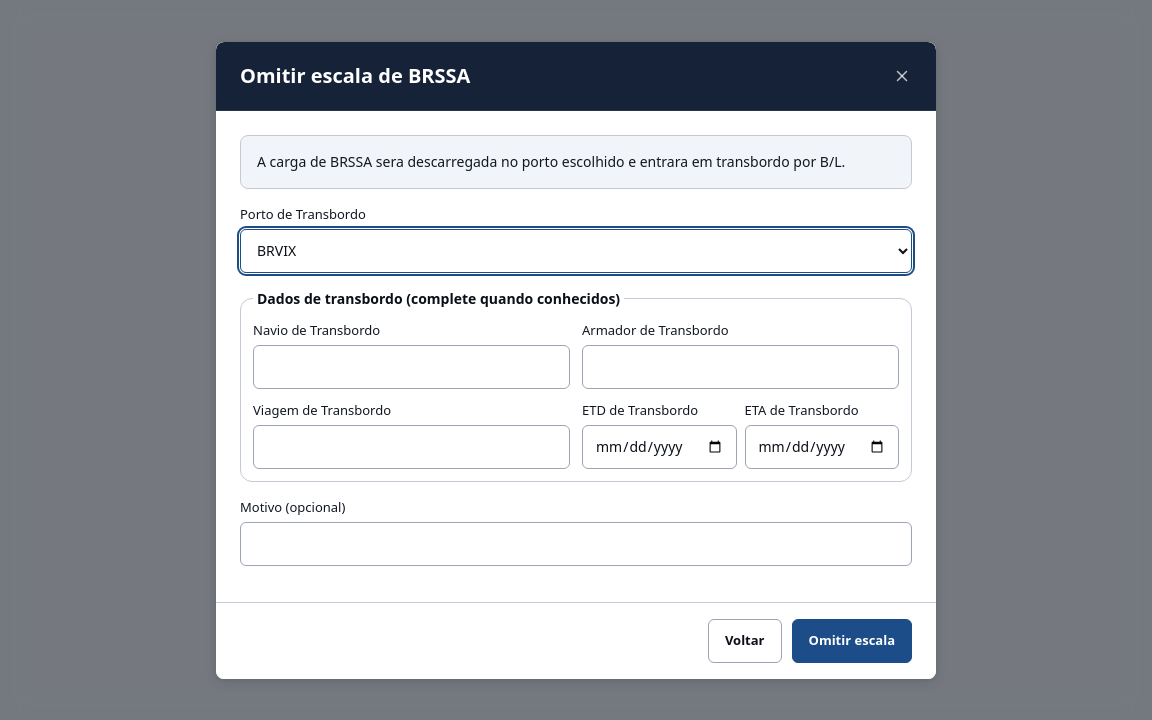
Test case: OmitEscalaModal - recusa do banco › Voltar e omitir de novo não mostra a recusa anterior na confirmação
The width and height of the screenshot is (1152, 720).
Click the button "Omitir escala" at (852, 640), box x1=792 y1=618 x2=912 y2=662
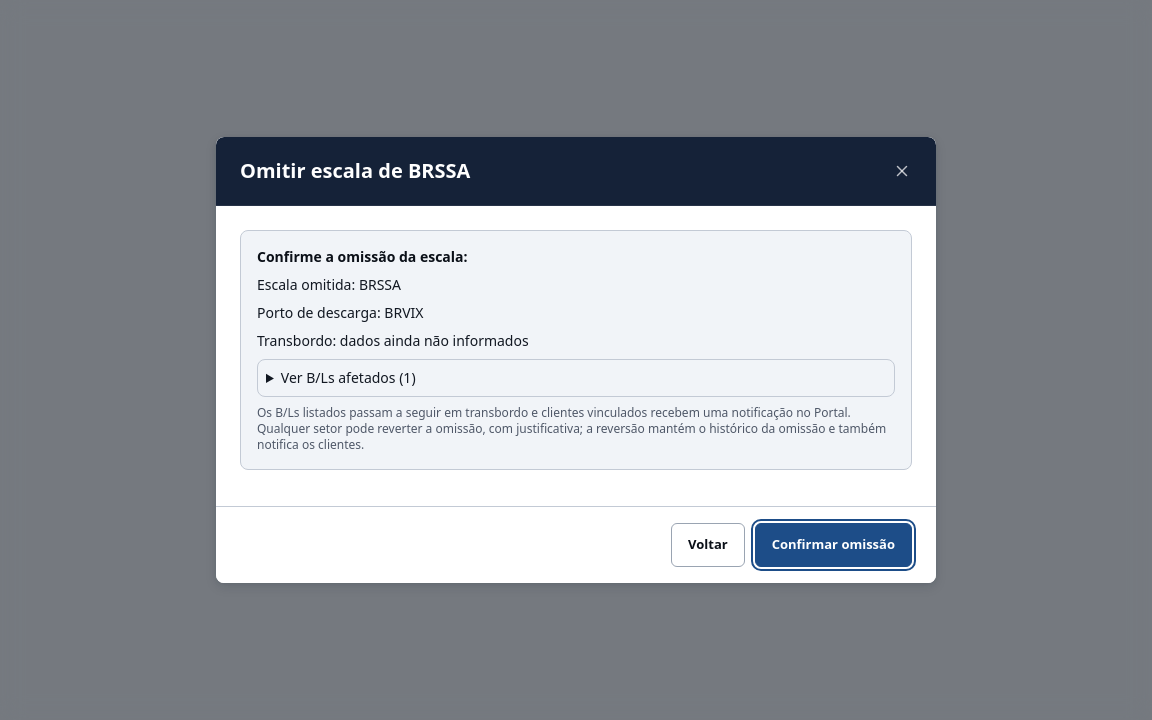
Click the button "Confirmar omissão" at (833, 545), box x1=755 y1=523 x2=912 y2=567
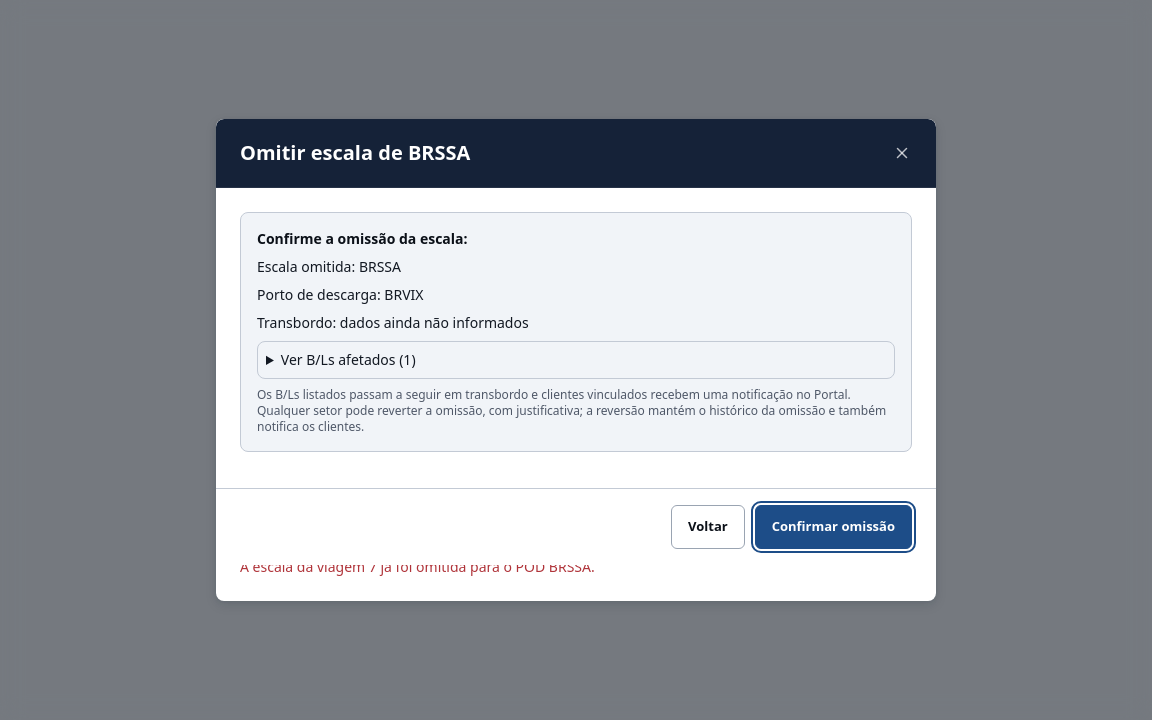
Click the button "Voltar" at (708, 527), box x1=671 y1=505 x2=745 y2=549
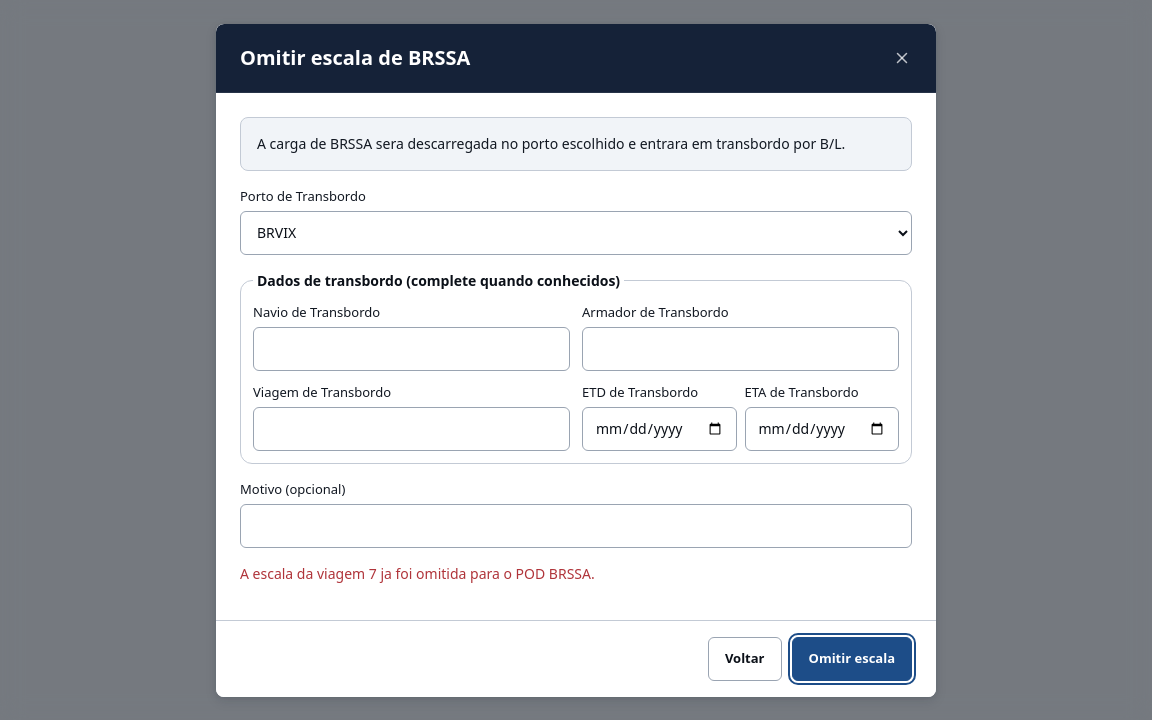
Click the button "Omitir escala" at (852, 658), box x1=792 y1=636 x2=912 y2=680
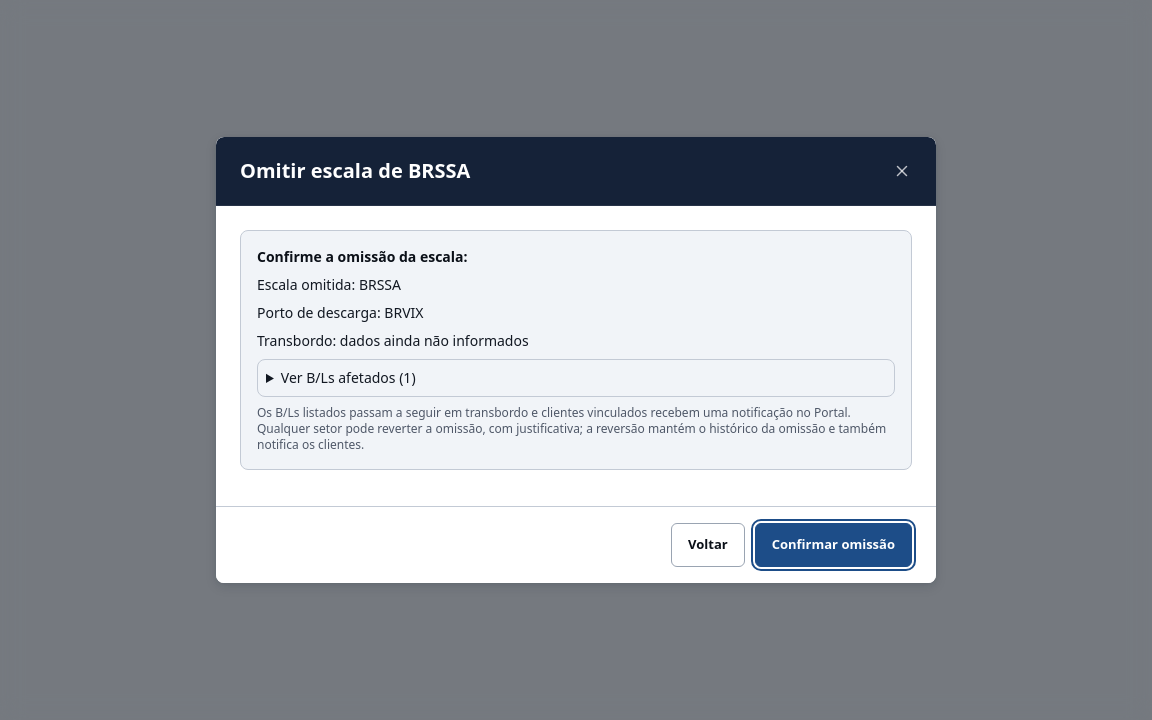
Expected: the button "Confirmar omissão" is shown, x1=755 y1=523 x2=912 y2=567
Expected: the message "A escala da viagem 7 ja foi omitida para o POD BRSSA." is gone
